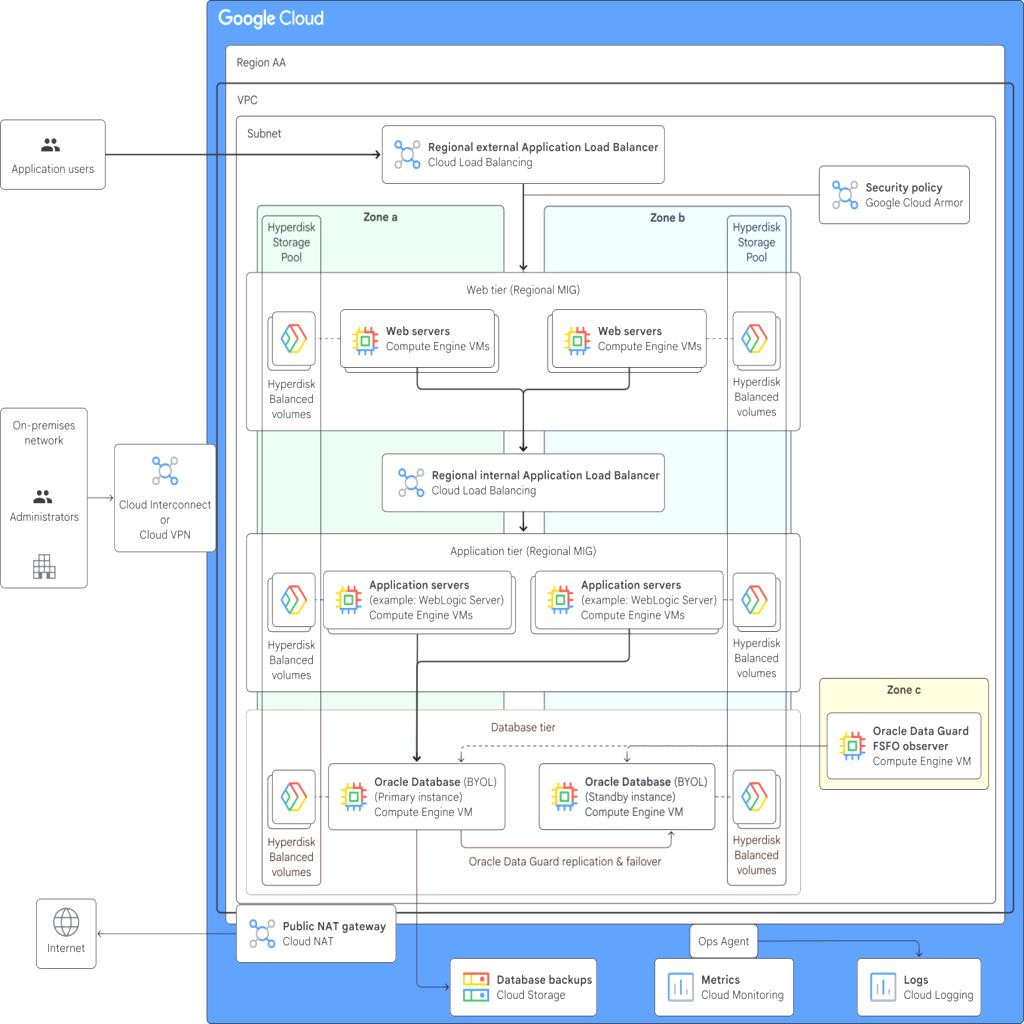actor: (0, 406, 88, 588), (0, 115, 105, 192), (36, 894, 97, 970)
api_gateway: (380, 120, 664, 187), (380, 450, 664, 517), (234, 904, 396, 970)
compute: (320, 568, 516, 636), (530, 568, 725, 636), (338, 306, 498, 374), (548, 306, 707, 374), (824, 709, 982, 776), (656, 958, 798, 1018), (866, 958, 994, 1018)
data_flow: (274, 740, 824, 745), (417, 386, 627, 392), (417, 661, 627, 666), (460, 829, 670, 834), (98, 930, 232, 934), (53, 151, 158, 156), (416, 590, 420, 682), (416, 827, 420, 897), (520, 186, 524, 240), (520, 381, 524, 434), (86, 476, 90, 517), (520, 510, 524, 539), (724, 945, 730, 960), (625, 366, 630, 382), (625, 628, 630, 644), (416, 366, 420, 382), (928, 945, 932, 960)
database_storage: (328, 761, 508, 828), (538, 761, 717, 828), (448, 958, 596, 1018), (726, 291, 785, 409), (726, 554, 785, 672), (726, 740, 785, 858), (260, 291, 318, 409), (260, 554, 318, 672), (260, 740, 318, 858)
network_security: (112, 442, 218, 550), (818, 161, 970, 224)
trust_boundary: (205, 5, 1024, 1019), (226, 37, 1014, 989), (240, 71, 1008, 957), (246, 708, 798, 890), (246, 270, 798, 430), (246, 533, 798, 692), (256, 507, 504, 732), (542, 507, 790, 732), (256, 180, 504, 404), (542, 180, 790, 404), (816, 678, 990, 792)
